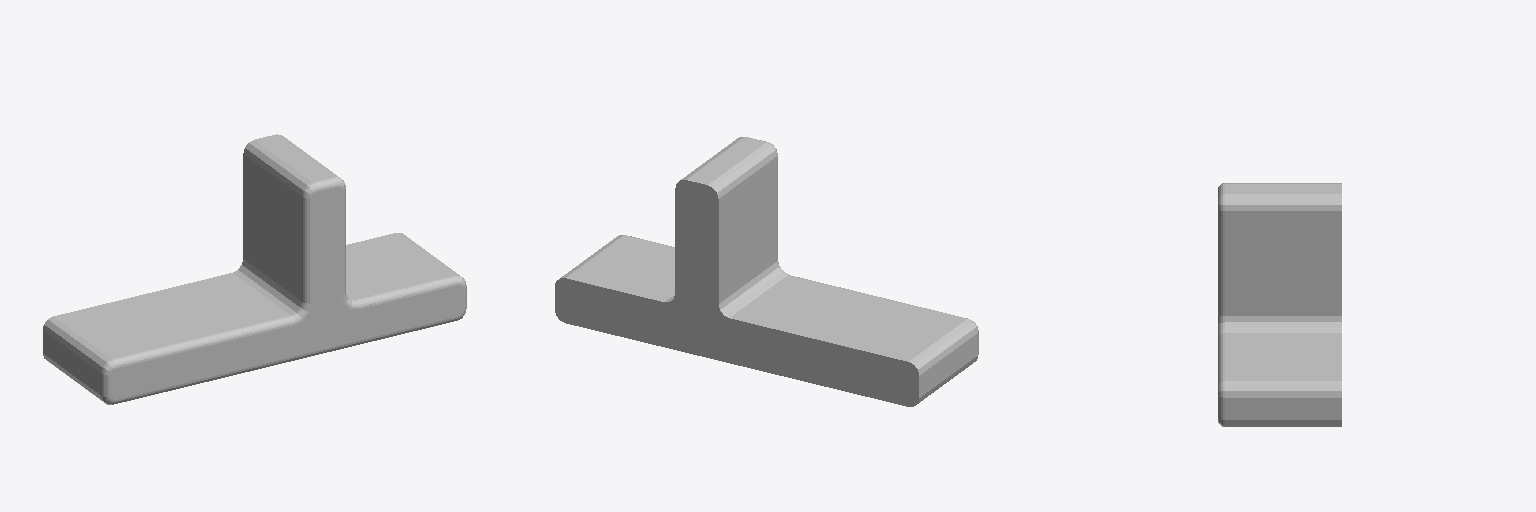
File: 2_Long_UpsideDown_T.obj
The picture shows the model from 3 angles: view 1: azimuth 30°, elevation 25°; view 2: azimuth 150°, elevation 25°; view 3: azimuth 270°, elevation 25°; orthographic projection.
Parts seen in each view (by area): view 1: Long_UpsideDown_T_Plane.017; view 2: Long_UpsideDown_T_Plane.017; view 3: Long_UpsideDown_T_Plane.017.
Part boxes in pixels (x1,y1,x2,y2): Long_UpsideDown_T_Plane.017: (43,134,466,404); Long_UpsideDown_T_Plane.017: (555,137,978,406); Long_UpsideDown_T_Plane.017: (1218,183,1341,426).
Size of the model in its own units: 16.95 by 7.67 by 5.